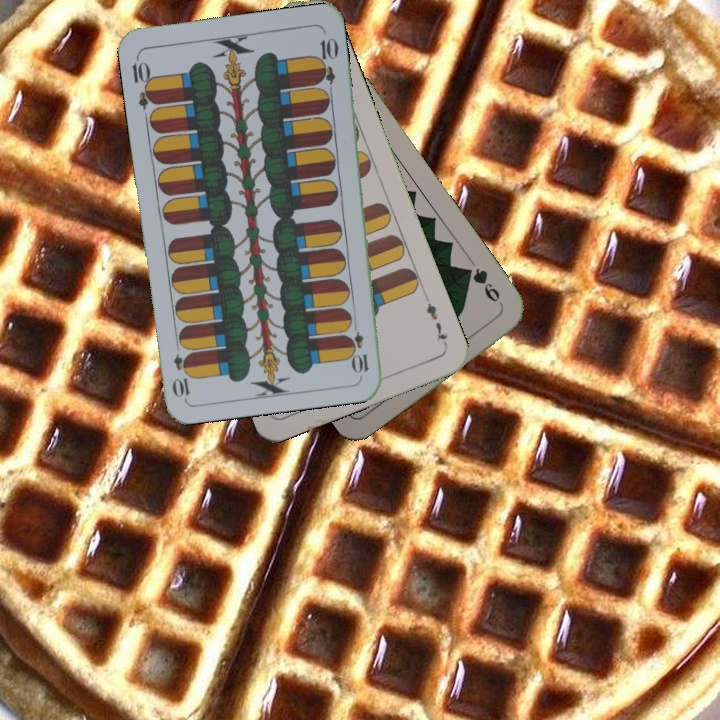E10: (127, 52, 159, 111), (347, 317, 371, 376)
E7: (422, 292, 451, 349)
G9: (460, 263, 506, 310)
